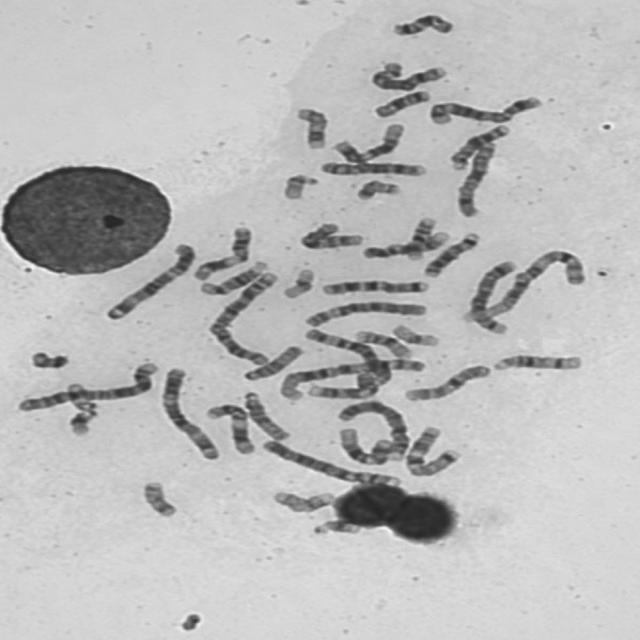A1: (458, 246, 590, 330), (274, 354, 429, 402)
A2: (12, 360, 161, 414), (202, 268, 282, 368)
A3: (99, 239, 200, 322), (155, 364, 222, 462)
B4: (258, 438, 402, 488), (332, 396, 412, 464)
B5: (465, 256, 520, 336), (424, 92, 545, 127)
C10: (398, 362, 494, 404), (295, 219, 365, 251)
C11: (187, 223, 254, 282), (201, 401, 256, 456)
C12: (328, 119, 408, 165), (334, 424, 394, 467)
C6: (299, 325, 391, 384), (298, 298, 430, 328)
C7: (400, 422, 464, 478), (316, 276, 433, 297)
C8: (365, 58, 450, 92), (314, 158, 430, 179)
C9: (358, 228, 453, 260), (304, 372, 378, 397)
D13: (444, 121, 514, 172), (419, 229, 483, 279)
D14: (196, 257, 272, 297), (487, 351, 586, 373)
D15: (238, 388, 293, 442), (238, 342, 306, 383)
E16: (350, 327, 414, 359), (401, 214, 440, 261)
E17: (267, 488, 338, 514), (291, 104, 330, 151)
E18: (388, 10, 456, 39), (370, 88, 432, 119)
F19: (387, 320, 442, 348), (277, 265, 317, 300)
F20: (137, 478, 179, 519), (351, 177, 404, 202)
G21: (63, 404, 100, 438), (308, 517, 362, 537)
G22: (278, 171, 322, 201), (62, 379, 97, 411)
X: (451, 139, 500, 219)
Y: (24, 348, 72, 370)
